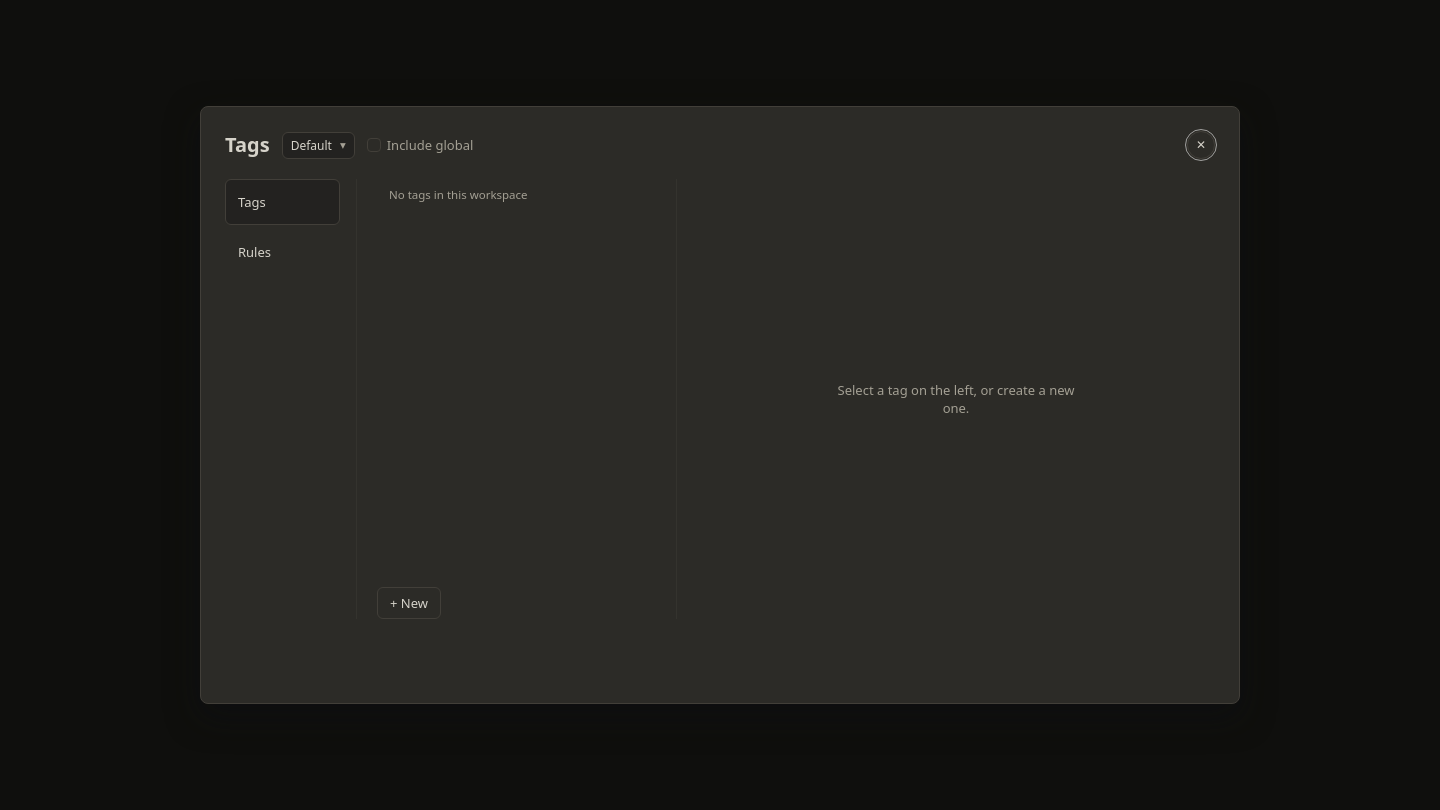
it: TagsDialog › a refused delete says how many rules use the tag (T-16)
Click the button "Default ▾".
click(318, 145)  # box [282,132,355,158]
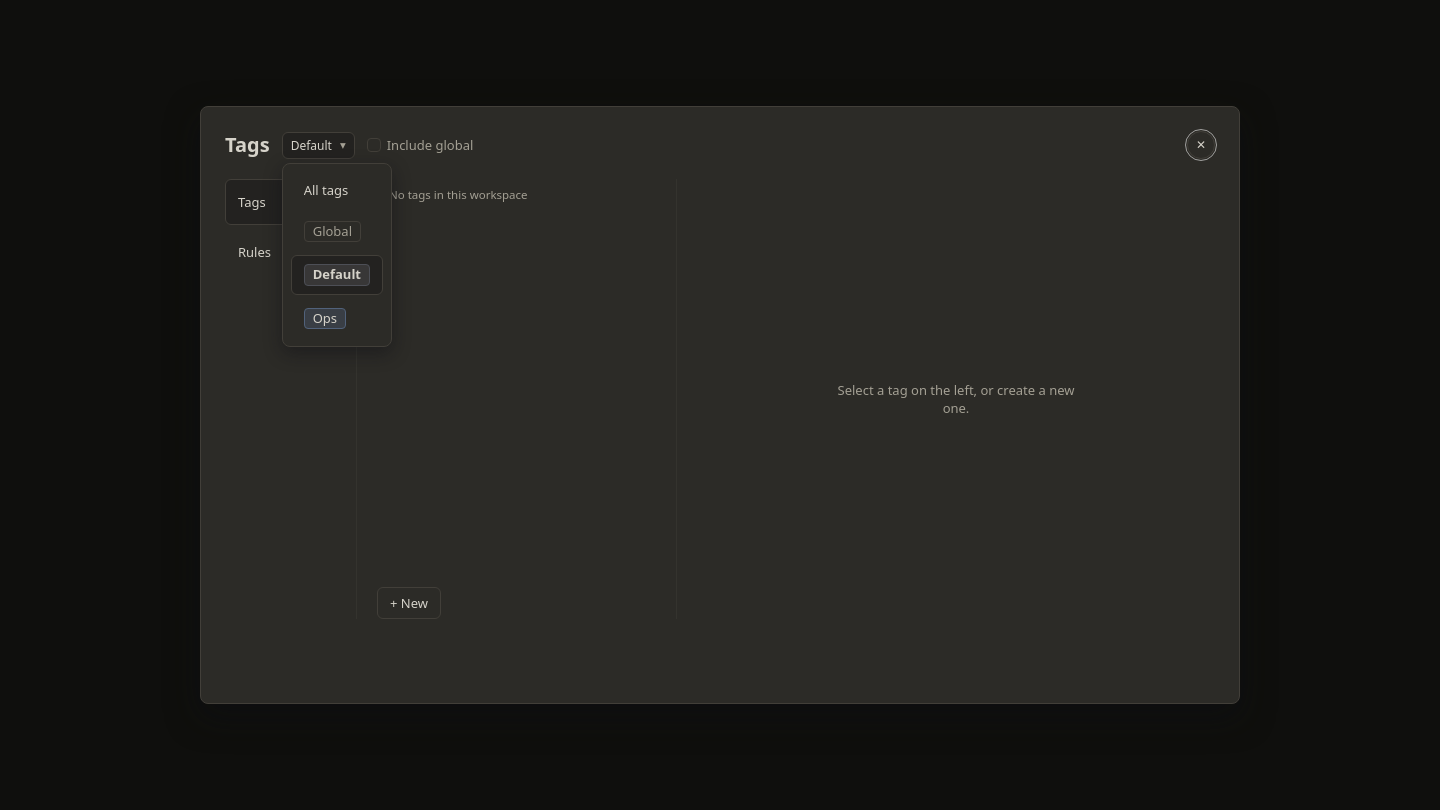
Click the option "All tags".
click(337, 190)  # box [291,172,383,208]
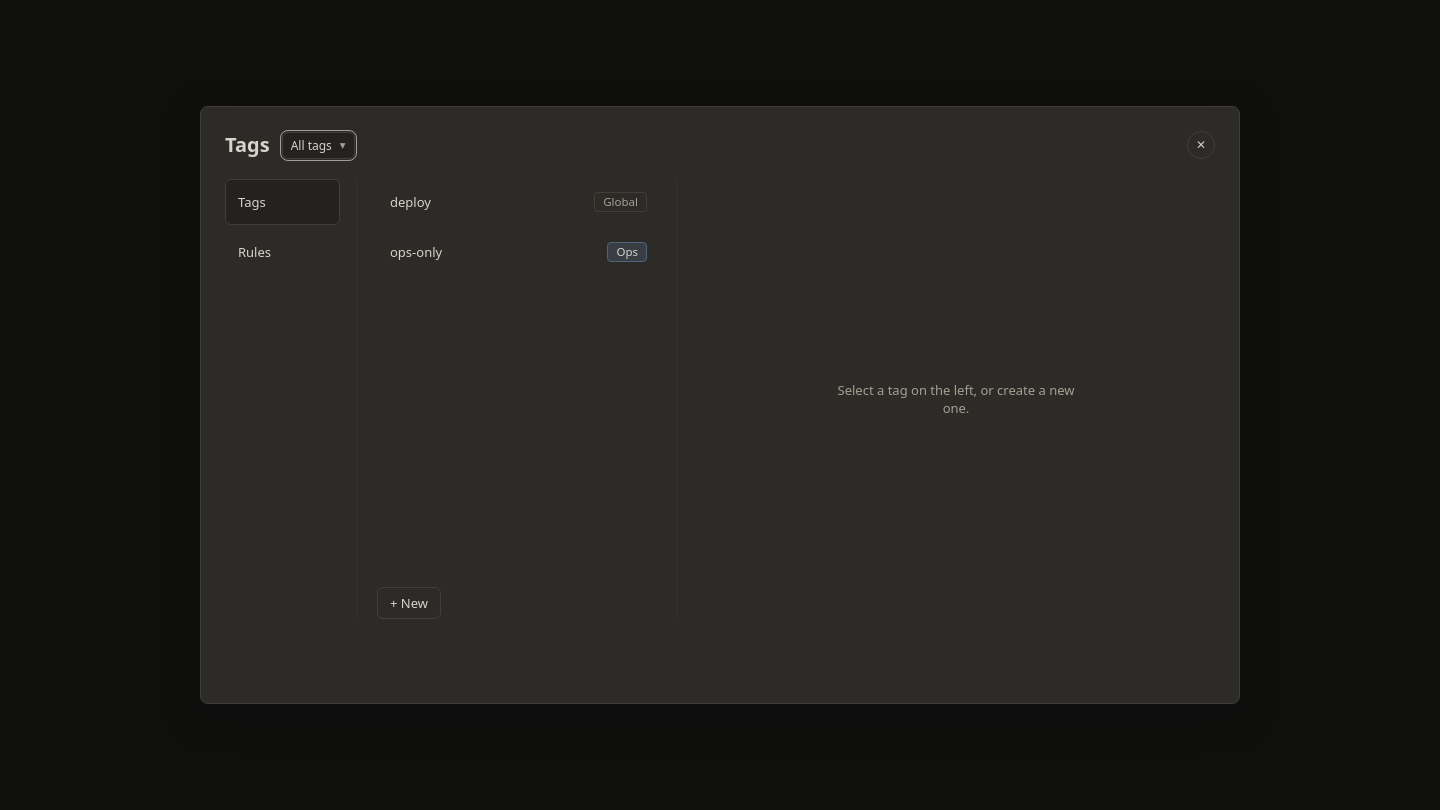
Click the button with test id "tag-select-t-deploy".
click(410, 202)  # box [378,180,659,224]
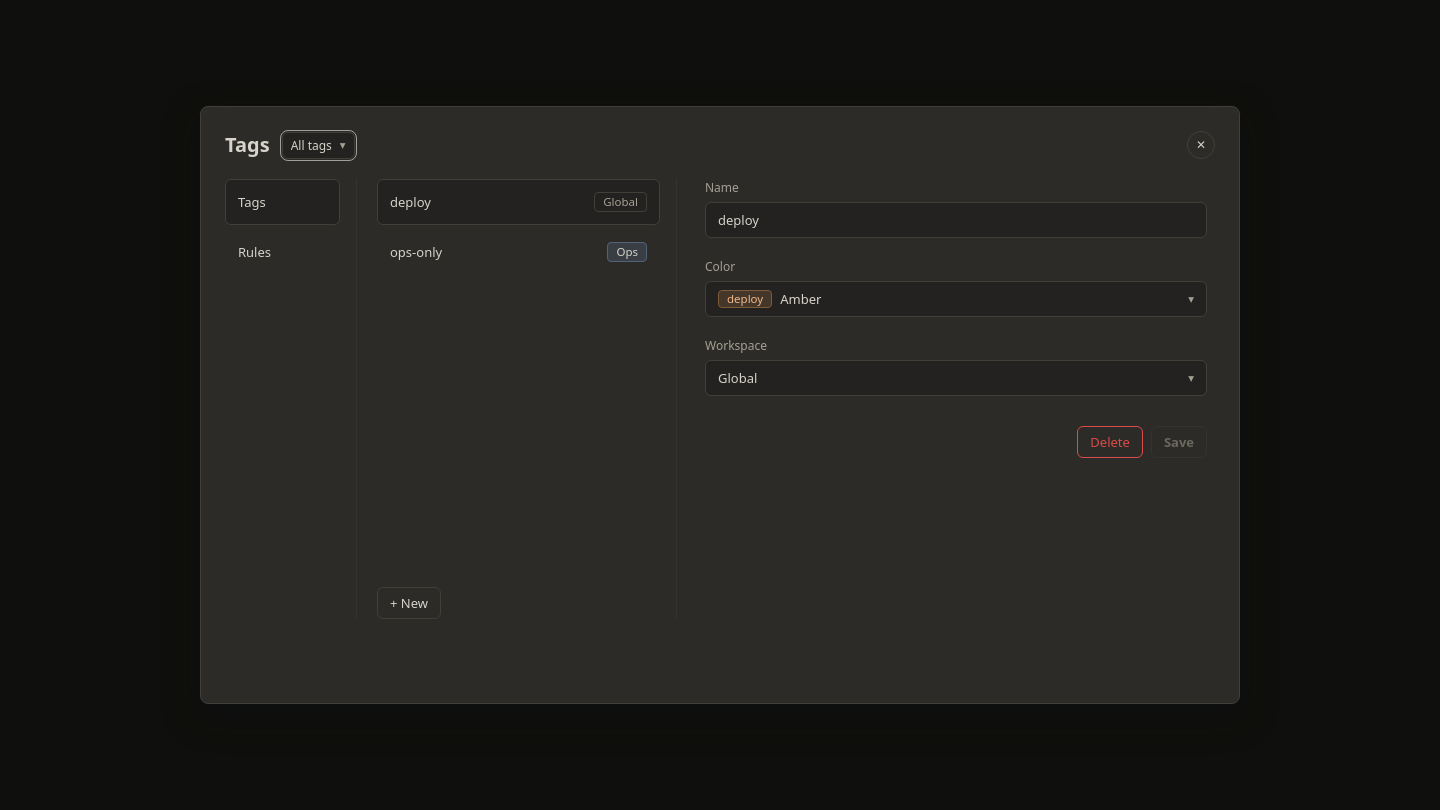
Click the button with test id "tag-delete".
click(1110, 442)  # box [1077,426,1143,458]
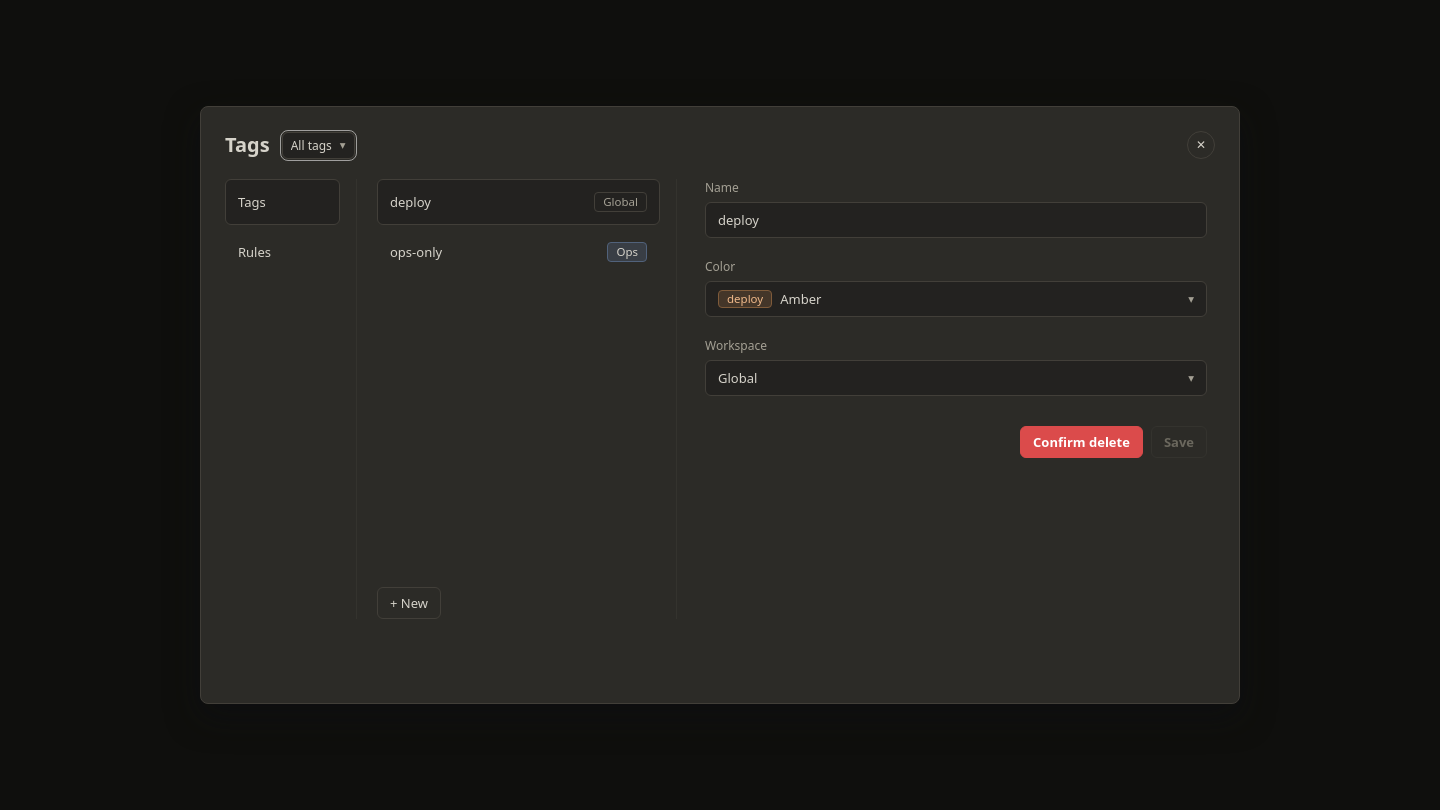
Click the button with test id "tag-delete".
click(1082, 442)  # box [1020,426,1143,458]
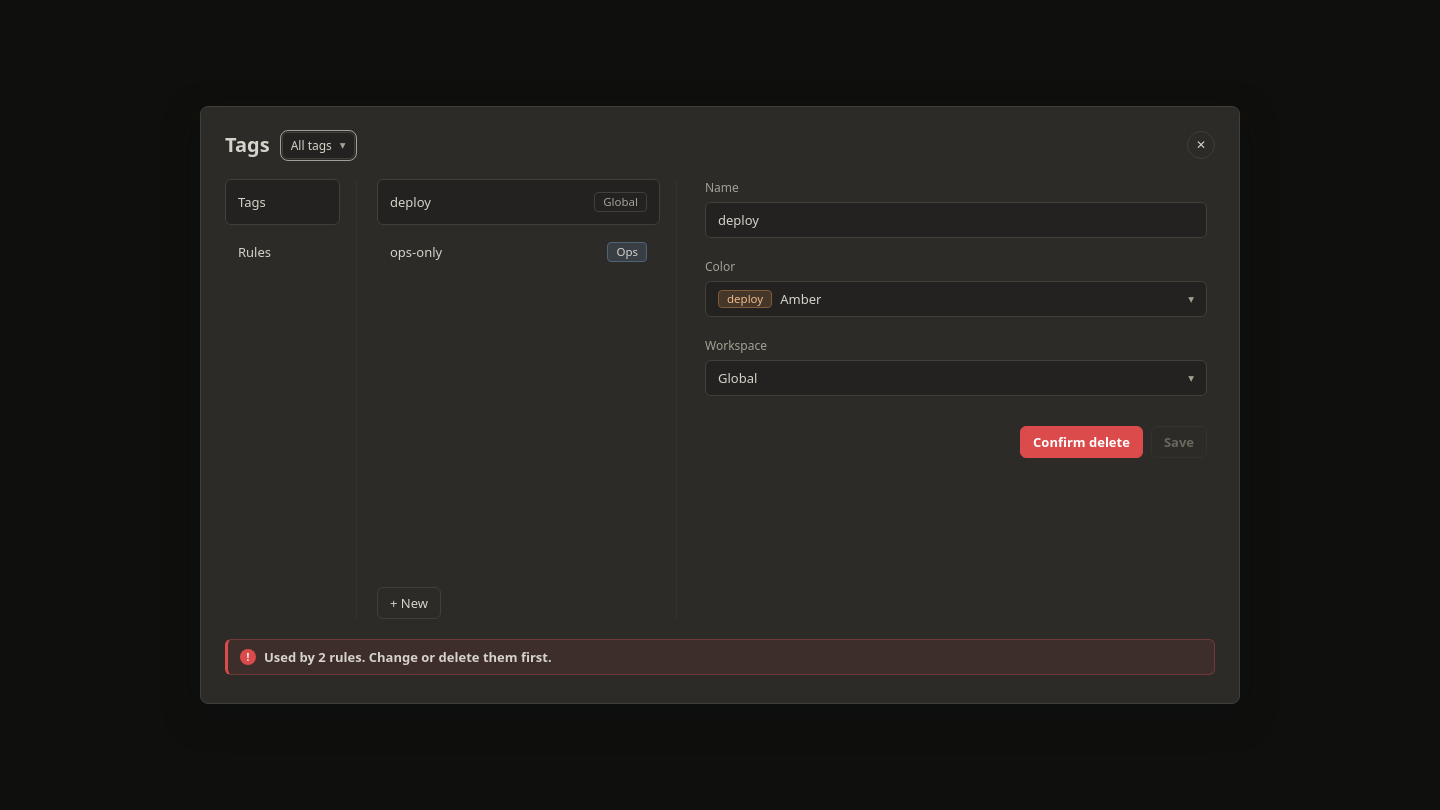
expect the message with test id "tag-error" reads "Used by 2 rules. Change or delete them first.": met, box [264,648,552,666]
